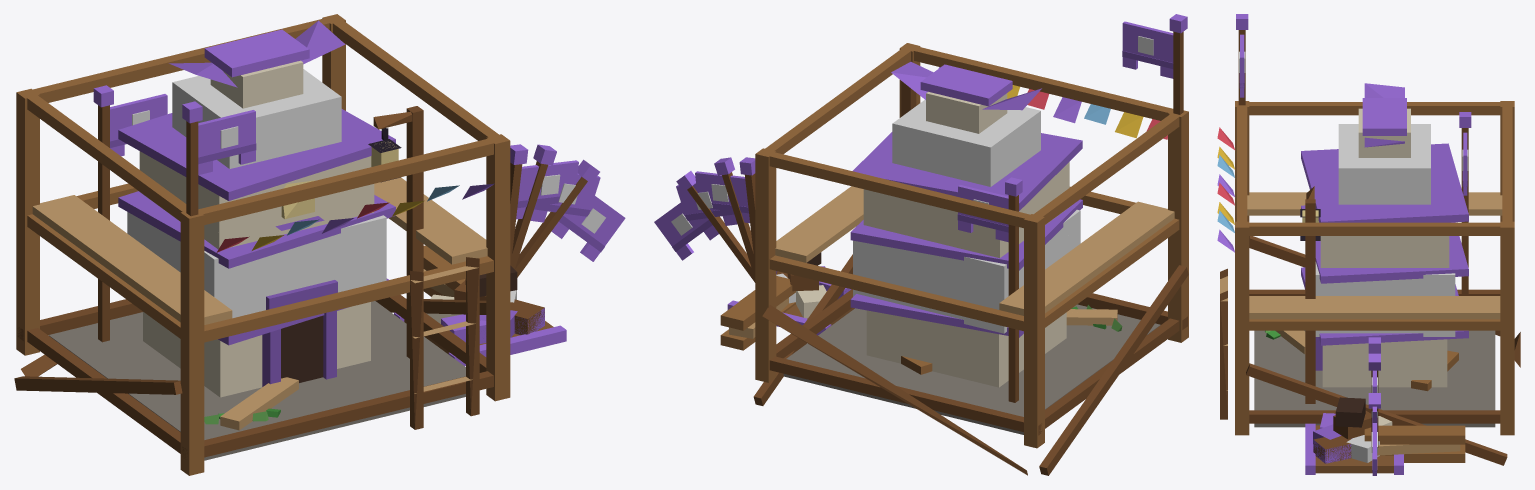
Rendered from moth-home.glb.
The picture shows the model from 3 angles, left to right: view 1: azimuth 30°, elevation 25°; view 2: azimuth 150°, elevation 25°; view 3: azimuth 270°, elevation 25°; orthographic projection. The views are drawn at different scales.
Visible parts, largest first — view 1: scaffold-mesh, built-mesh, dismantle-50-mesh, dismantle-75-mesh, dismantle-25-mesh, scaffold-banner, flag-pole, dismantle-25-banner, dismantle-75-banner, banner, scaffold-flag-pole, dismantle-25-flag-pole (+3 smaller); view 2: scaffold-mesh, built-mesh, dismantle-50-mesh, dismantle-75-mesh, scaffold-banner, dismantle-25-mesh, flag-pole, dismantle-25-banner, dismantle-75-banner, banner, dismantle-25-flag-pole, scaffold-flag-pole (+3 smaller); view 3: scaffold-mesh, built-mesh, dismantle-50-mesh, dismantle-75-mesh, dismantle-25-mesh, flag-pole, scaffold-flag-pole, banner, scaffold-banner, dismantle-25-banner.
Part boxes in pixels (left/top/right/bottom): scaffold-mesh: left=14, top=14, right=510, bottom=475; built-mesh: left=118, top=20, right=423, bottom=424; dismantle-50-mesh: left=49, top=259, right=566, bottom=460; dismantle-75-mesh: left=118, top=156, right=566, bottom=460; dismantle-25-mesh: left=220, top=265, right=566, bottom=429; scaffold-banner: left=198, top=110, right=256, bottom=174; flag-pole: left=93, top=85, right=113, bottom=342; dismantle-25-banner: left=551, top=192, right=625, bottom=261; dismantle-75-banner: left=516, top=160, right=578, bottom=219; banner: left=110, top=94, right=167, bottom=156; scaffold-flag-pole: left=182, top=101, right=202, bottom=216; dismantle-25-flag-pole: left=515, top=159, right=599, bottom=277; scaffold-mesh: left=720, top=43, right=1188, bottom=475; built-mesh: left=851, top=61, right=1116, bottom=328; dismantle-50-mesh: left=776, top=271, right=1160, bottom=416; dismantle-75-mesh: left=739, top=200, right=1097, bottom=434; scaffold-banner: left=1122, top=21, right=1173, bottom=78; dismantle-25-mesh: left=727, top=252, right=1117, bottom=433; flag-pole: left=1005, top=177, right=1022, bottom=402; dismantle-25-banner: left=654, top=195, right=718, bottom=260; dismantle-75-banner: left=695, top=171, right=749, bottom=223; banner: left=957, top=185, right=1008, bottom=242; dismantle-25-flag-pole: left=676, top=171, right=755, bottom=282; scaffold-flag-pole: left=1169, top=14, right=1187, bottom=114; scaffold-mesh: left=1217, top=101, right=1520, bottom=465; built-mesh: left=1265, top=83, right=1468, bottom=345; dismantle-50-mesh: left=1254, top=270, right=1495, bottom=474; dismantle-75-mesh: left=1301, top=206, right=1468, bottom=473; dismantle-25-mesh: left=1276, top=330, right=1458, bottom=474; flag-pole: left=1459, top=112, right=1471, bottom=295; scaffold-flag-pole: left=1236, top=14, right=1248, bottom=105; banner: left=1462, top=132, right=1468, bottom=195; scaffold-banner: left=1239, top=34, right=1245, bottom=97; dismantle-25-banner: left=1371, top=423, right=1377, bottom=475.
Size of the model in its own units: 2.45 by 1.78 by 1.51.
